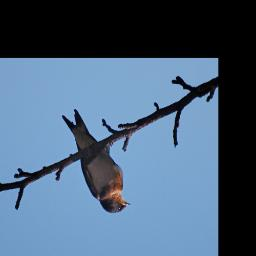Swallow: (61, 109, 130, 214)
